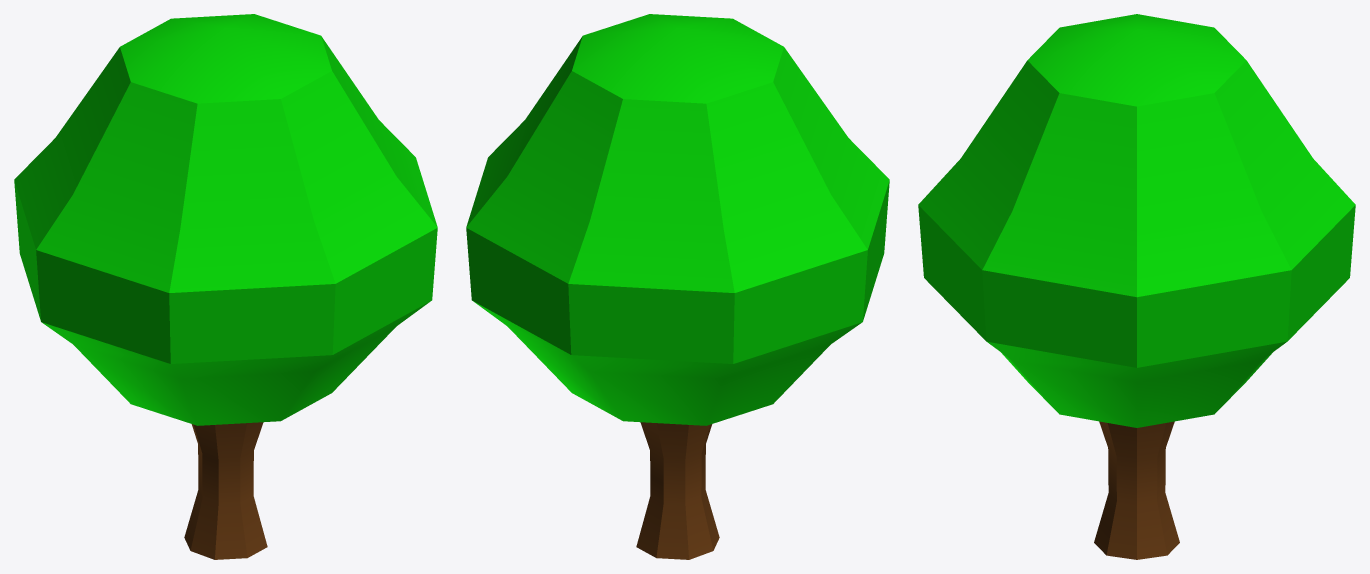
Rendered from Arbre_B.FBX.
The picture shows the model from 3 angles, left to right: view 1: azimuth 30°, elevation 25°; view 2: azimuth 150°, elevation 25°; view 3: azimuth 270°, elevation 25°; orthographic projection.
Parts seen in each view (by area): view 1: Arbre_A001; view 2: Arbre_A001; view 3: Arbre_A001.
Part boxes in pixels (<box>): Arbre_A001: <box>14,14,437,559</box>; Arbre_A001: <box>466,14,889,559</box>; Arbre_A001: <box>918,14,1355,559</box>.
Bounding box in the file's own units: 133 × 172 × 133.
